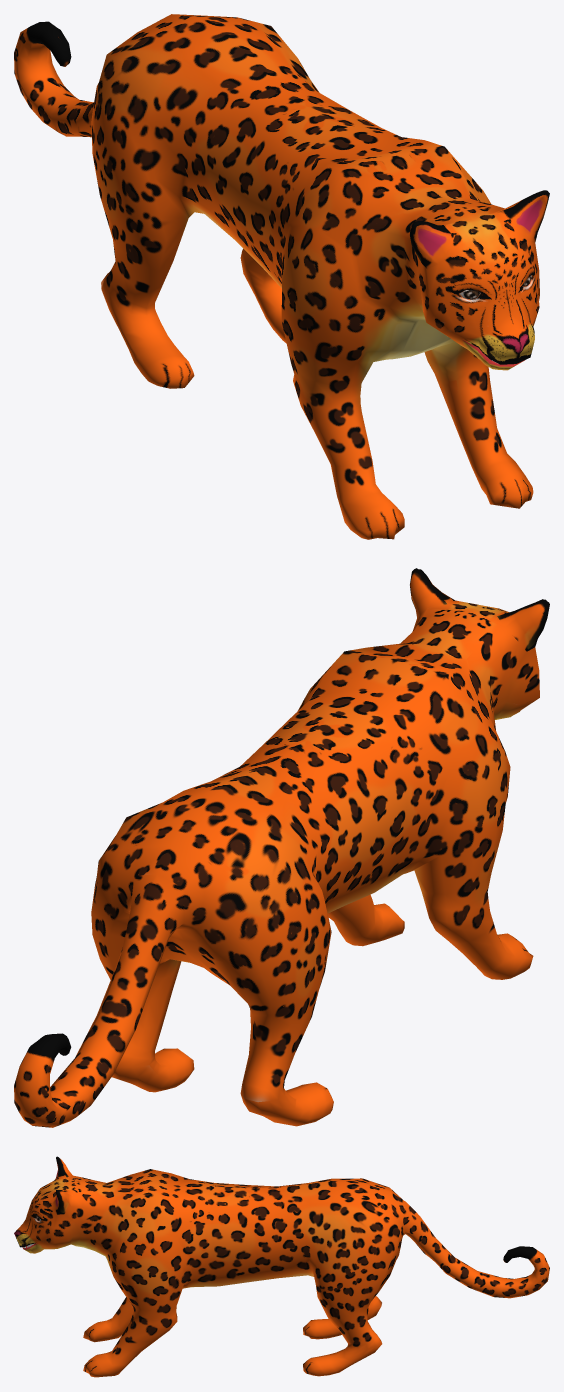
Rendered from Onça PINTADA (2).fbx.
3 views of the same model, one above another, from view 1: azimuth 30°, elevation 25°; view 2: azimuth 150°, elevation 25°; view 3: azimuth 270°, elevation 25° (orthographic). The views are drawn at different scales.
Parts seen in each view (by area): view 1: Cone.002; view 2: Cone.002; view 3: Cone.002.
Part boxes in pixels (<box>): Cone.002: <box>14,14,549,539</box>; Cone.002: <box>14,568,549,1127</box>; Cone.002: <box>14,1156,549,1377</box>.
Bounding box in the file's own units: 351 × 557 × 1484.
Materials: 3 (2 with a texture image).
